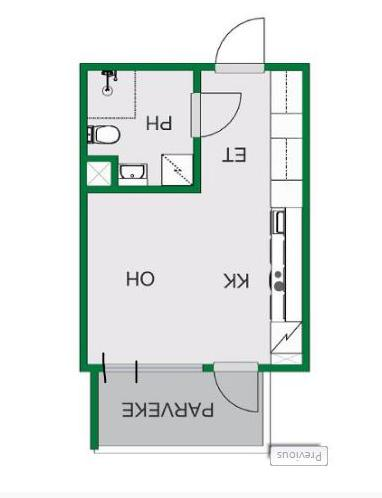door: (211, 15, 268, 75), (211, 360, 262, 416), (190, 92, 244, 140)
window: (135, 358, 206, 373), (98, 358, 139, 373)
